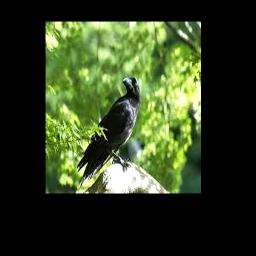Crow: (76, 75, 141, 191)
